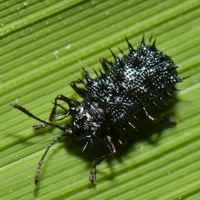insect: (10, 35, 185, 184)
